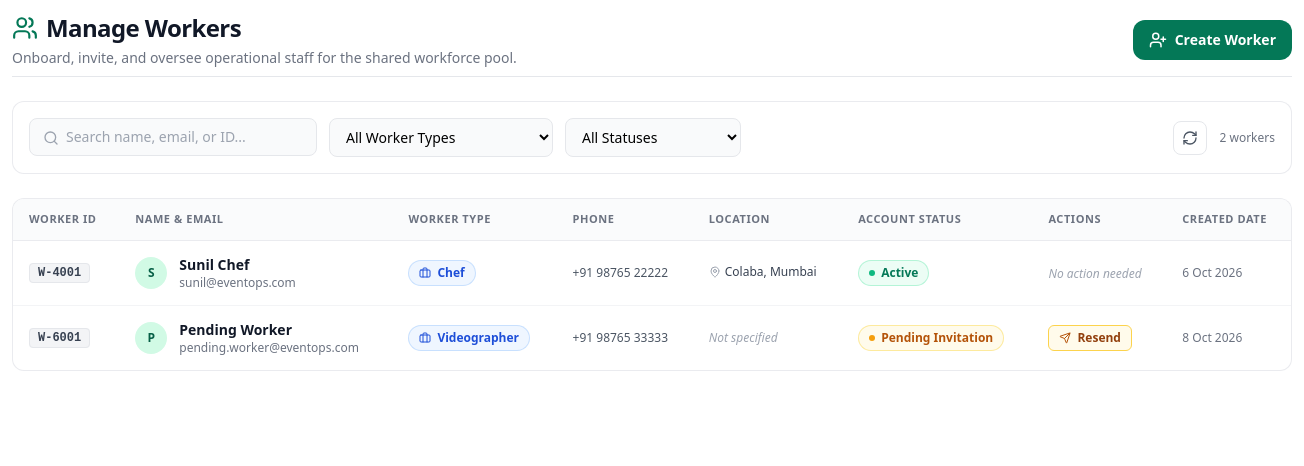
Test case: ManagerWorkers Component › resends invitation for pending worker and displays success feedback
Expected: the text "Pending Worker" is shown, [179, 320, 292, 338]
Click the button "Resend". click: {"x": 1090, "y": 338}
box: [1048, 324, 1132, 350]
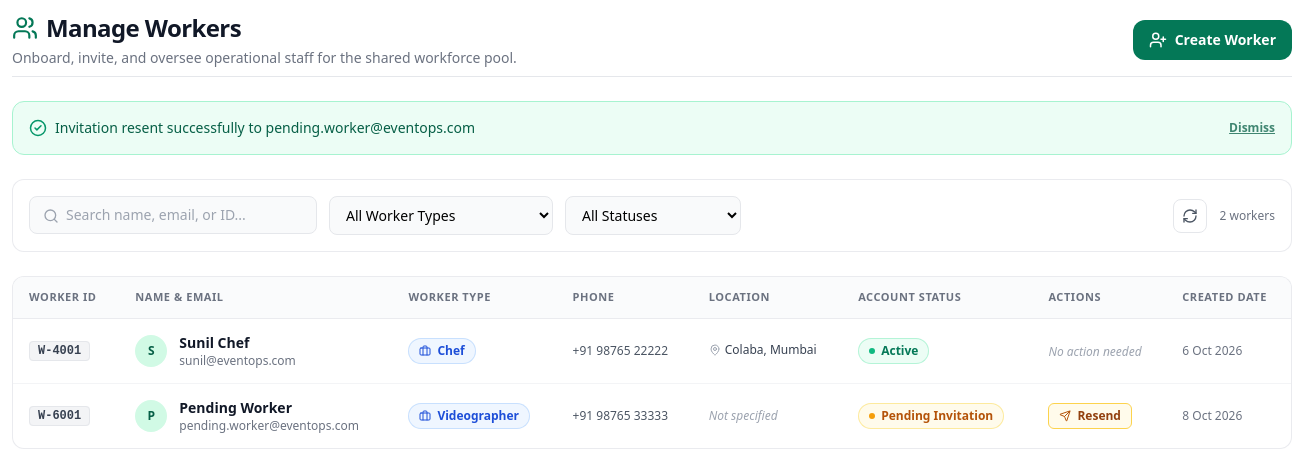
Expected: the text "Invitation resent successfully to pending.worker@eventops.com" is shown, [55, 118, 475, 138]
